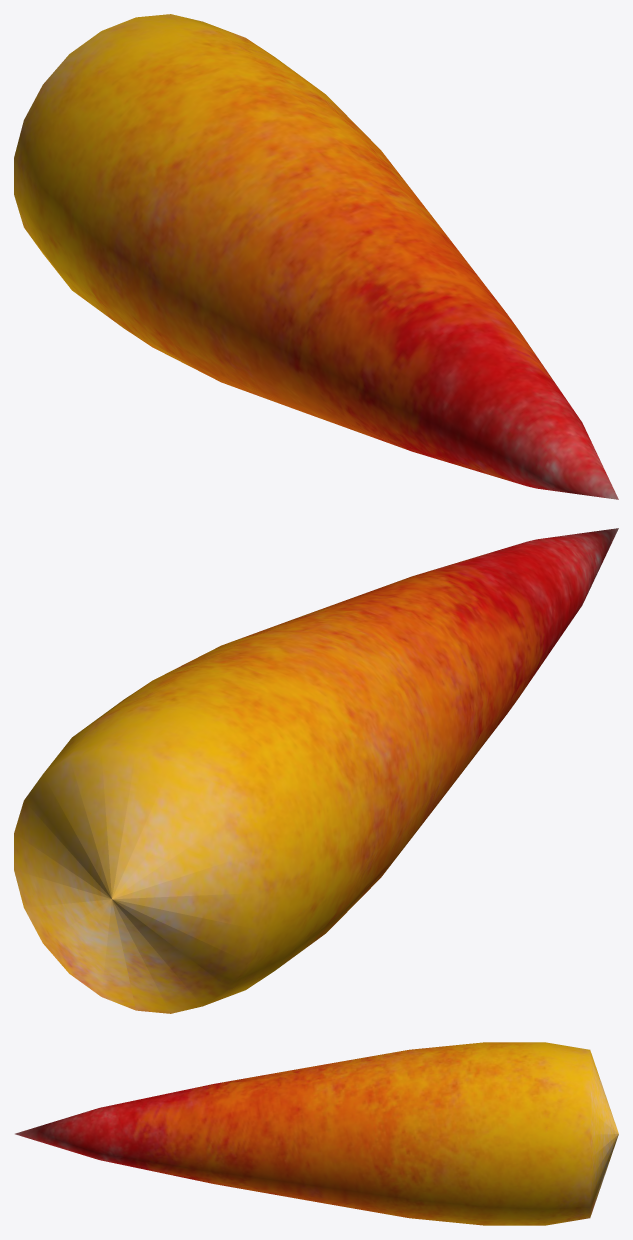
File: fire01.obj
3 renders of one model, top to bottom at view 1: azimuth 30°, elevation 25°; view 2: azimuth 150°, elevation 25°; view 3: azimuth 270°, elevation 25°, orthographic. The views are drawn at different scales.
Visible parts, largest first — view 1: fire01; view 2: fire01; view 3: fire01.
Boxes of the visible parts, x1,y1,x2,y2 form: fire01: (14, 14, 618, 499); fire01: (14, 528, 618, 1013); fire01: (15, 1042, 618, 1225).
Size of the model in its own units: 6.43 by 6.5 by 21.26.
Materials: 1 (1 with a texture image).
